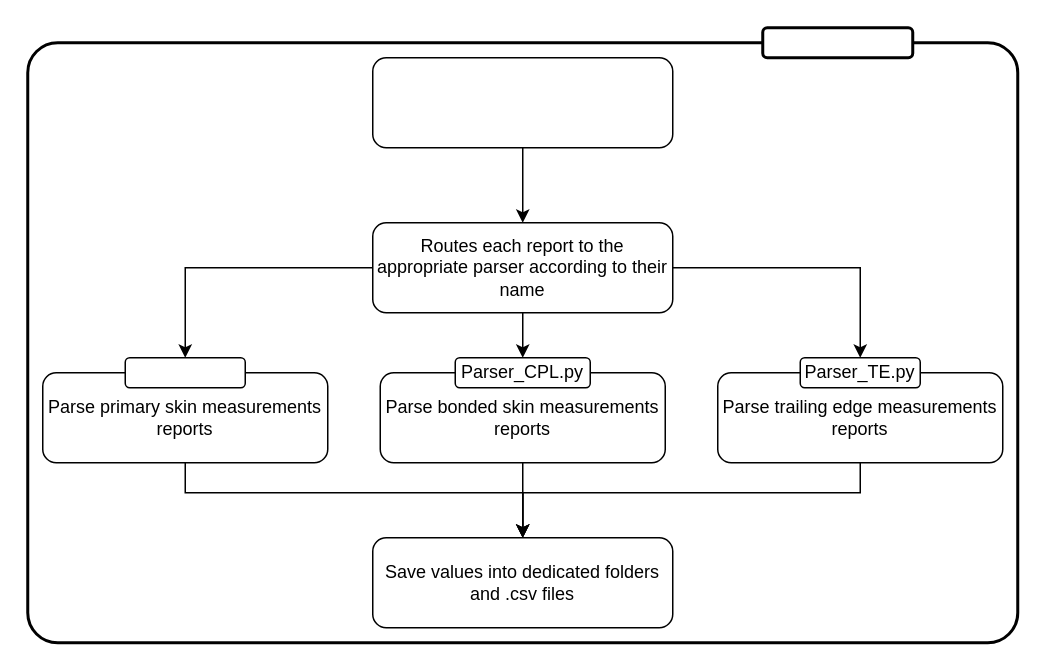
Some shapes in this 1044 by 669 pixel diagram are drawn without their labels. Each missing label, with the centre of its shape:
CSV_Creator.py: (x=837, y=42)
Parser_PP.py: (x=184, y=372)
Scans .pdf report from measurement folder (:S/..): (x=522, y=102)
